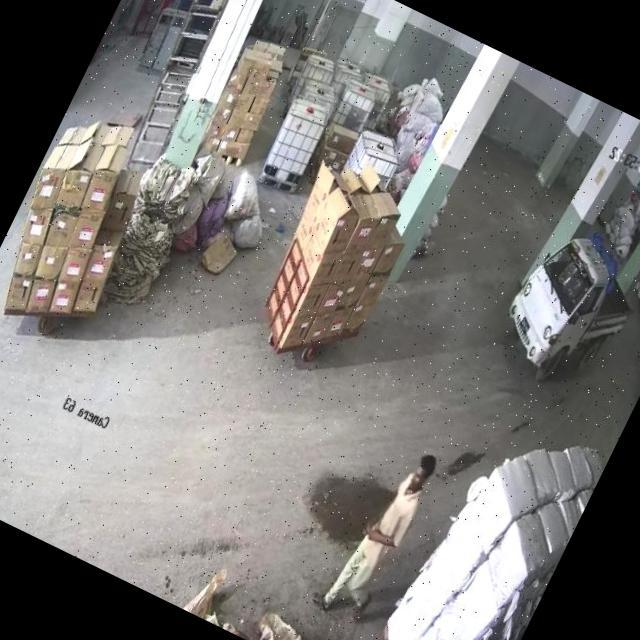person: (311, 436, 443, 630)
